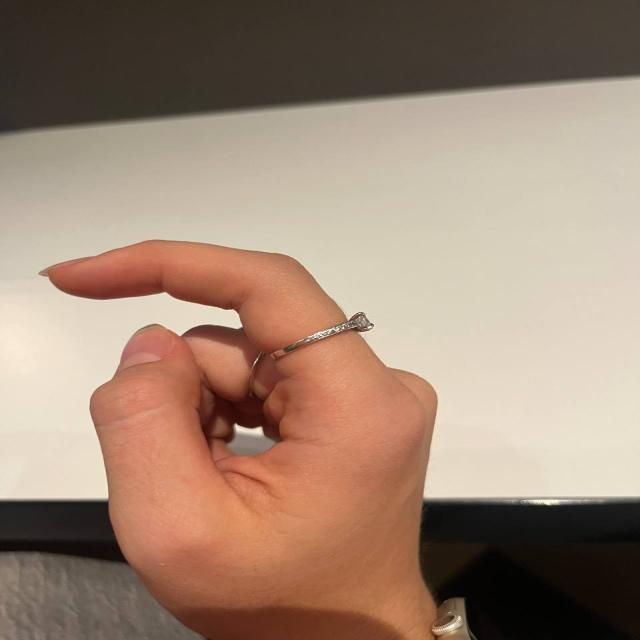kh: (27, 190, 476, 593)
